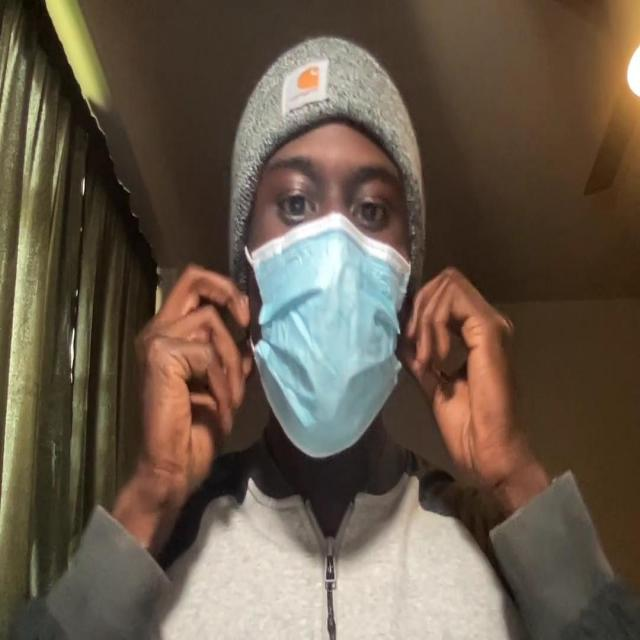face: (235, 114, 417, 460)
